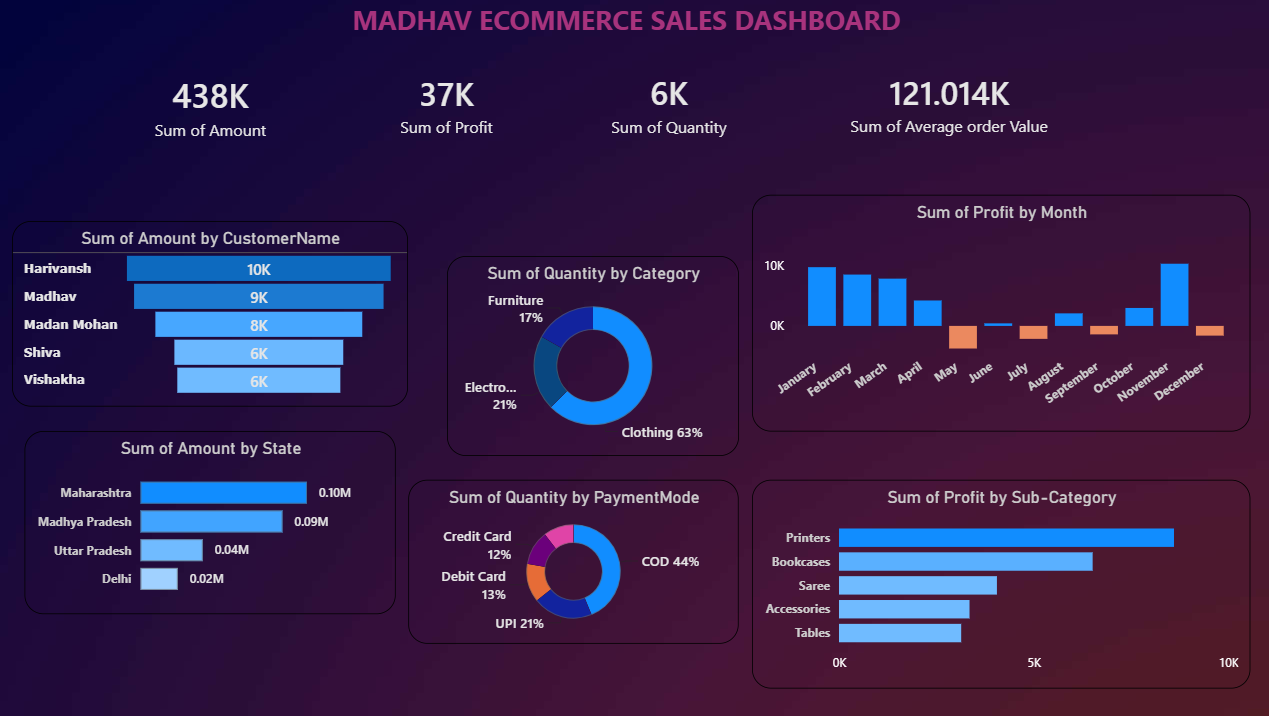

Layout of this report page (visuals, bound fields, positions):
{"tool":"powerbi","page":{"name":"Page 1","canvas":[1280,720],"ordinal":0},"visuals":[{"type":"textbox","box":[9.7,0,1248.7,67.6],"z":0},{"type":"columnChart","fields":{"Y":["Sum(Details.Profit)"],"Category":["Orders.Order Date.Variation.Date Hierarchy.Month"]},"box":[760.1,199.1,498.3,236.5],"z":1000},{"type":"clusteredBarChart","fields":{"Category":["Details.Sub-Category"],"Y":["Sum(Details.Profit)"]},"box":[760.1,483.8,498.3,208.7],"z":2000},{"type":"donutChart","fields":{"Category":["Details.Category"],"Y":["Sum(Details.Quantity)"]},"box":[454.8,259.4,292,200.3],"z":3000},{"type":"donutChart","fields":{"Y":["Sum(Details.Quantity)"],"Category":["Details.PaymentMode"]},"box":[416.2,483.8,330.6,164.1],"z":4000},{"type":"barChart","fields":{"Category":["Orders.State"],"Y":["Sum(Details.Amount)"]},"box":[32.6,435.5,371.6,183.4],"z":5000},{"type":"funnel","fields":{"Category":["Orders.CustomerName"],"Y":["Sum(Details.Amount)"]},"box":[20.5,224.4,395.7,185.8],"z":6000},{"type":"cardVisual","fields":{"Data":["Sum(Details.Profit)"]},"box":[380,57.9,149.6,101.3],"z":7000},{"type":"cardVisual","fields":{"Data":["Sum(Details.Quantity)"]},"box":[569.4,55.5,214.7,106.2],"z":8000},{"type":"cardVisual","fields":{"Data":["Sum(Details.Average order Value)"]},"box":[833.7,56.7,247.3,102.5],"z":9000},{"type":"cardVisual","fields":{"Data":["Sum(Details.Amount)"]},"box":[114.6,67.6,207.5,85.7],"z":10000}]}

Visuals, with their boxes in screenshot pixels (x1, y1, x2, y2), scaled from the page's 1280x720 canvas onto the 1269x716 screenshot:
textbox: (left=10, top=0, right=1248, bottom=67)
columnChart - Sum(Details.Profit) x Orders.Order Date.Variation.Date Hierarchy.Month: (left=754, top=198, right=1248, bottom=433)
clusteredBarChart - Details.Sub-Category x Sum(Details.Profit): (left=754, top=481, right=1248, bottom=689)
donutChart - Details.Category x Sum(Details.Quantity): (left=451, top=258, right=740, bottom=457)
donutChart - Sum(Details.Quantity) x Details.PaymentMode: (left=413, top=481, right=740, bottom=644)
barChart - Orders.State x Sum(Details.Amount): (left=32, top=433, right=401, bottom=615)
funnel - Orders.CustomerName x Sum(Details.Amount): (left=20, top=223, right=413, bottom=408)
cardVisual - Sum(Details.Profit): (left=377, top=58, right=525, bottom=158)
cardVisual - Sum(Details.Quantity): (left=565, top=55, right=777, bottom=161)
cardVisual - Sum(Details.Average order Value): (left=827, top=56, right=1072, bottom=158)
cardVisual - Sum(Details.Amount): (left=114, top=67, right=319, bottom=152)
